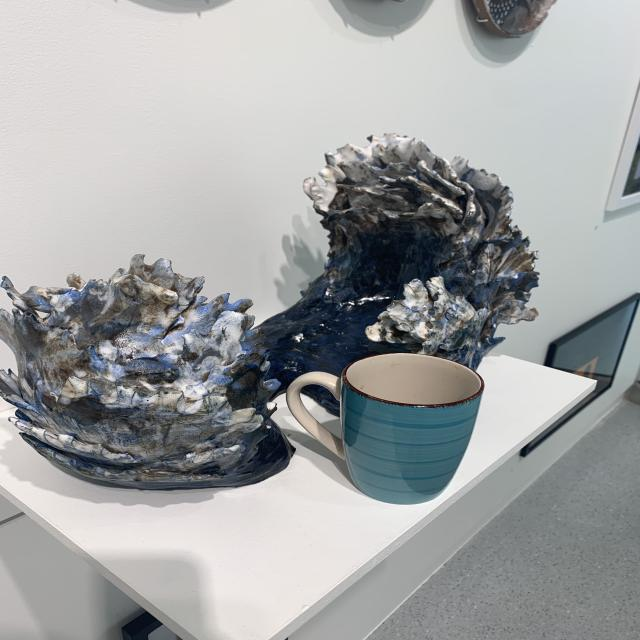Cup: (288, 348, 486, 506)
